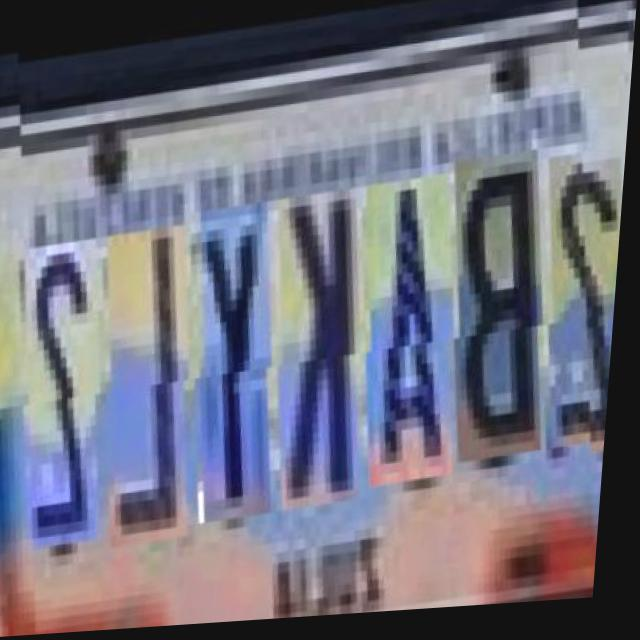2: (1, 229, 116, 542), (525, 155, 629, 456)
a: (343, 176, 468, 489)
b: (430, 154, 555, 468)
k: (253, 186, 376, 510)
l: (82, 217, 205, 541)
y: (172, 197, 287, 521)
